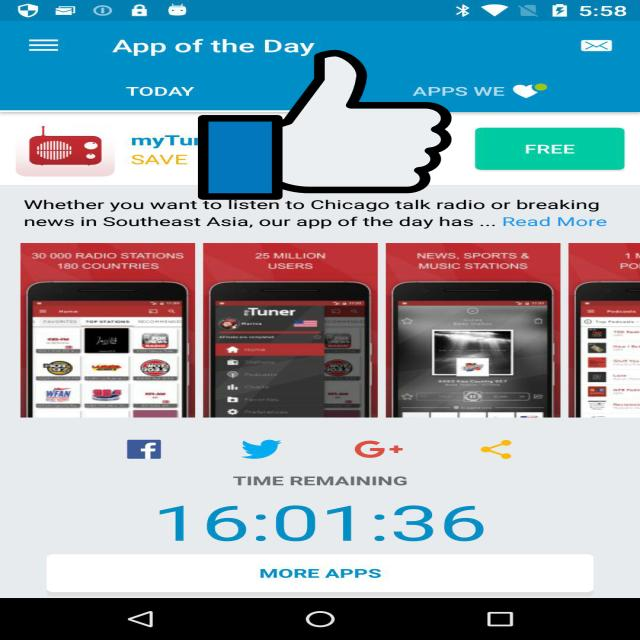privacy zuckering: (198, 47, 451, 203)
